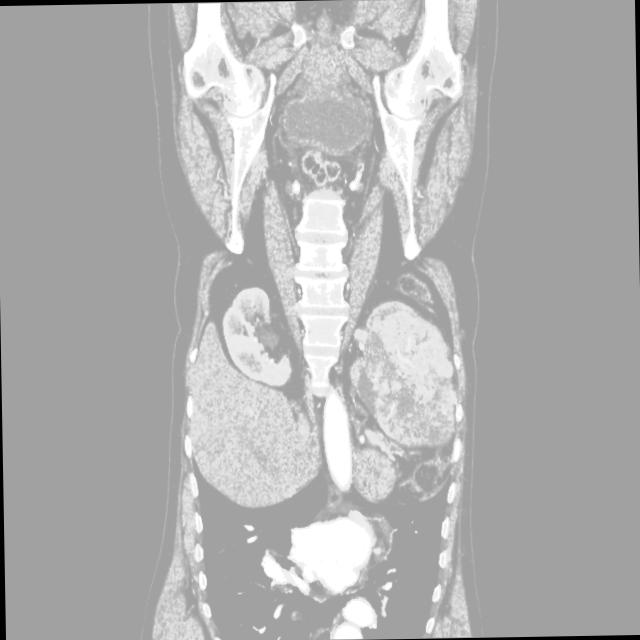TUMOR: (110, 283, 525, 474)
